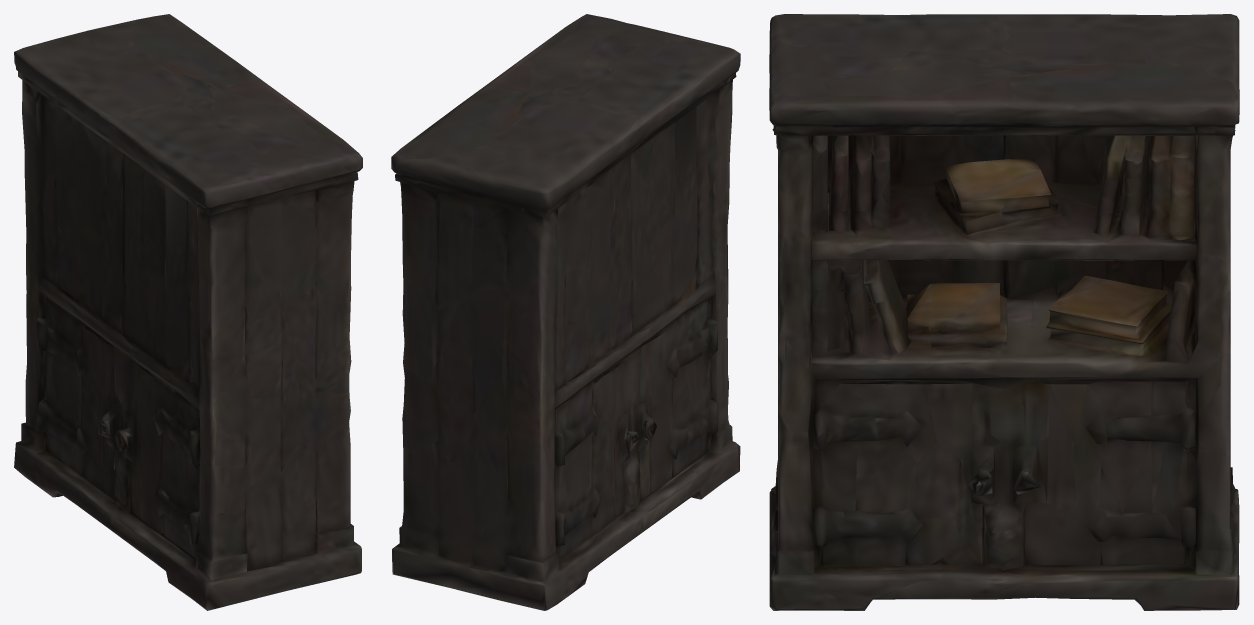
Rendered from archive-cupboard.glb.
The picture shows the model from 3 angles, left to right: view 1: azimuth 30°, elevation 25°; view 2: azimuth 150°, elevation 25°; view 3: azimuth 270°, elevation 25°; orthographic projection. The views are drawn at different scales.
Parts seen in each view (by area): view 1: tripo_node_000b705b-57c4-47ed-9c36-747379d8e124; view 2: tripo_node_000b705b-57c4-47ed-9c36-747379d8e124; view 3: tripo_node_000b705b-57c4-47ed-9c36-747379d8e124.
Boxes of the visible parts, x1=… form: tripo_node_000b705b-57c4-47ed-9c36-747379d8e124: x1=14, y1=14, x2=362, y2=610; tripo_node_000b705b-57c4-47ed-9c36-747379d8e124: x1=391, y1=14, x2=740, y2=610; tripo_node_000b705b-57c4-47ed-9c36-747379d8e124: x1=769, y1=14, x2=1239, y2=610.
Size of the model in its own units: 0.3914 by 1 by 0.8354.
1 material, 1 textured.
